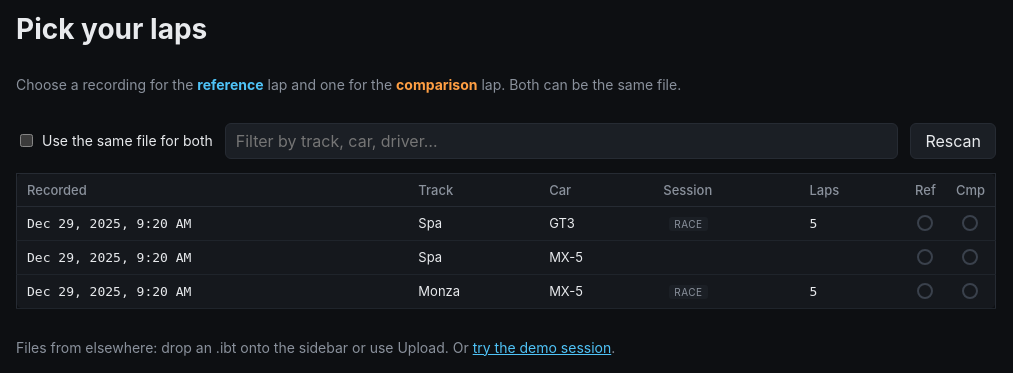
Test case: filters by any word across track, car and type
Type "mx-5 monza" into the search field named "Filter files" at (562, 141), box x1=225 y1=123 x2=898 y2=159
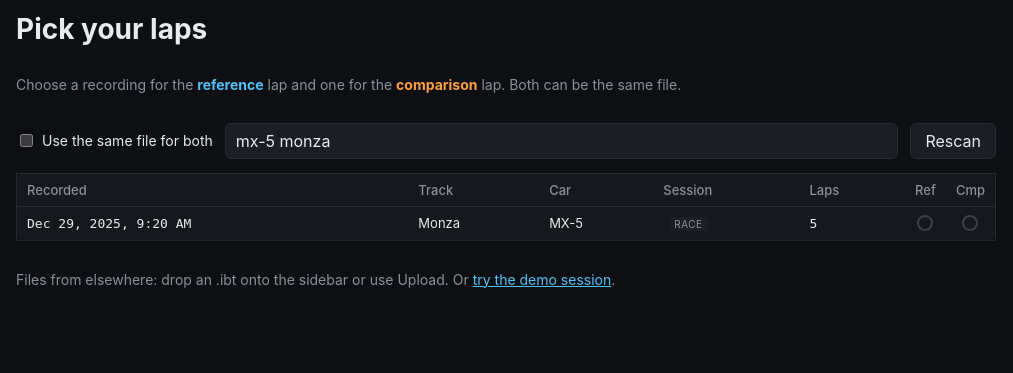
Expected: the number of rows is 2, x1=16 y1=173 x2=996 y2=206; x1=16 y1=206 x2=996 y2=240
Replace the text in the search field named "Filter files" with "nothing" at (562, 141), box x1=225 y1=123 x2=898 y2=159
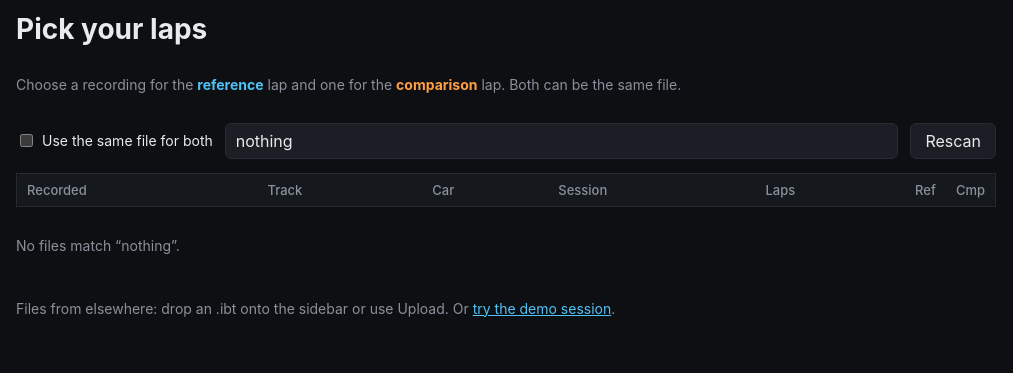
Expected: the text "No files match “nothing”." is shown, x1=16 y1=237 x2=180 y2=254
